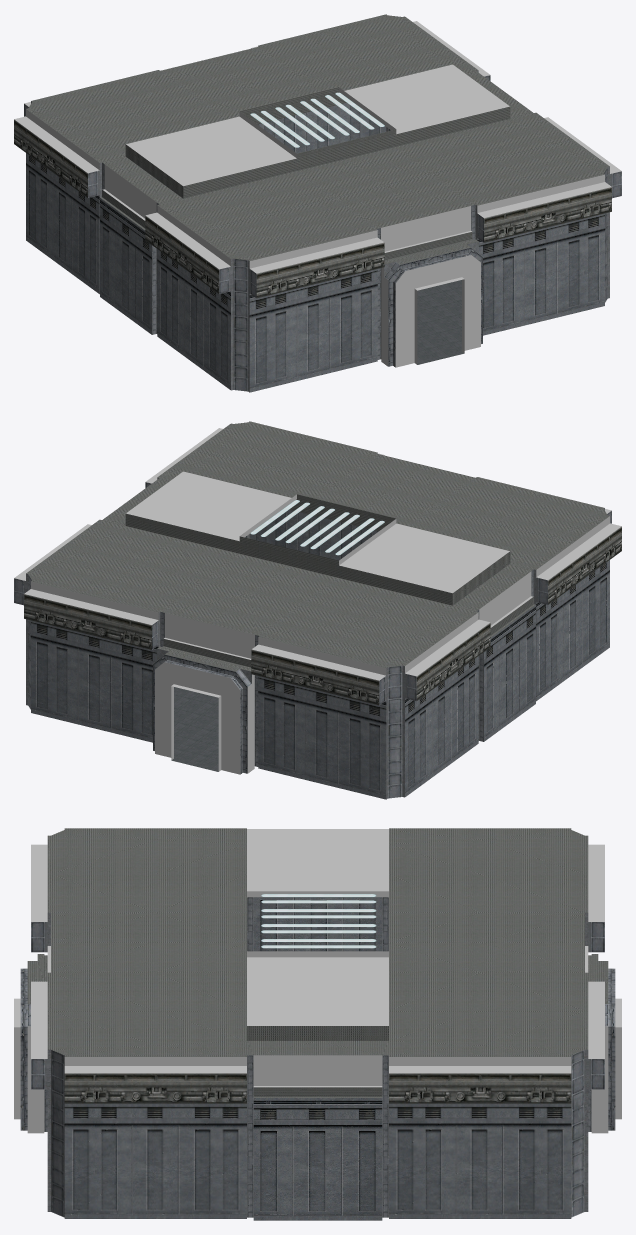
Rendered from poi_all_impl_bunker_warren_s01_r63_smallroom63_mesh_r63.fbx.
3 renders of one model, top to bottom at view 1: azimuth 30°, elevation 25°; view 2: azimuth 150°, elevation 25°; view 3: azimuth 270°, elevation 25°, orthographic. The views are drawn at different scales.
Visible parts, largest first — view 1: mesh_node; view 2: mesh_node; view 3: mesh_node.
Part boxes in pixels (left/top/right/bottom): mesh_node: left=14, top=14, right=621, bottom=392; mesh_node: left=14, top=421, right=621, bottom=799; mesh_node: left=14, top=828, right=621, bottom=1220.
Size of the model in its own units: 17 by 6 by 18.
